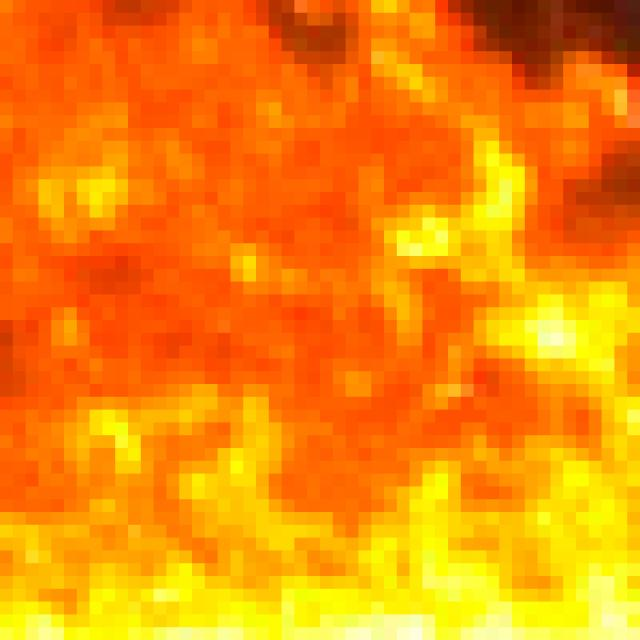fire: (14, 3, 640, 610)
